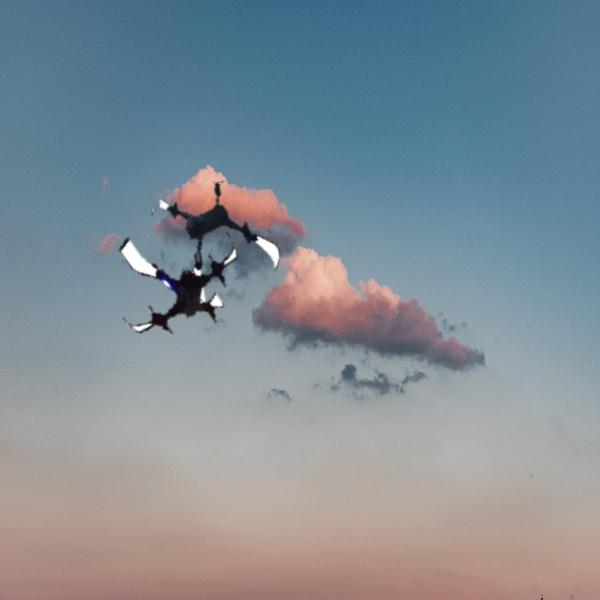drone: (107, 204, 249, 346), (152, 174, 288, 310)
